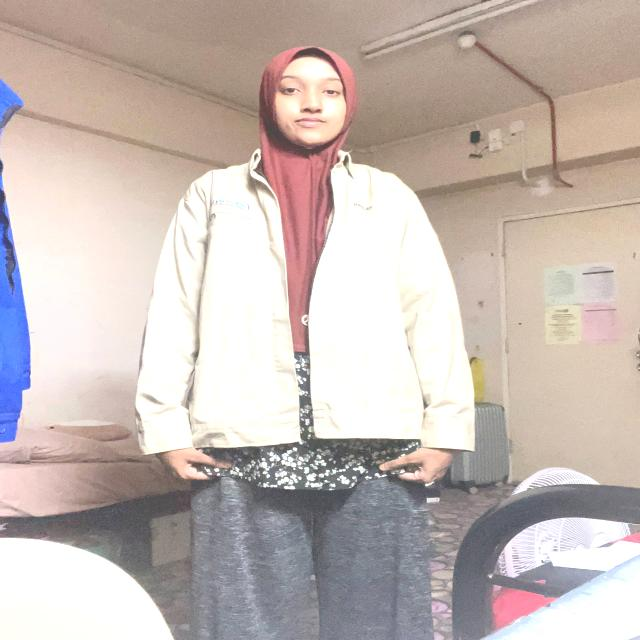person_with_labcoat: (136, 46, 474, 640)
